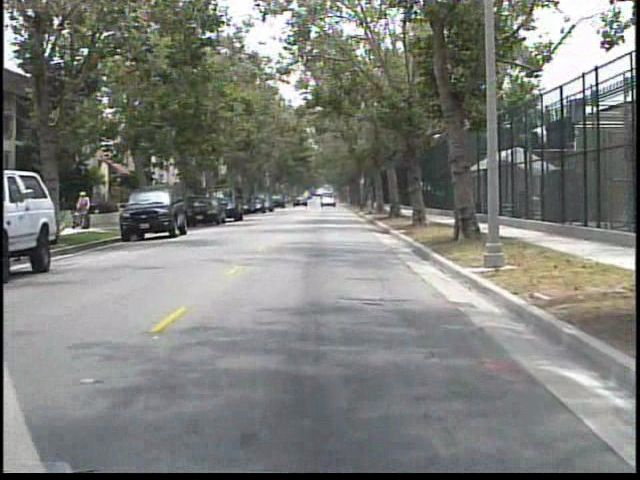person: (79, 192, 99, 233)
